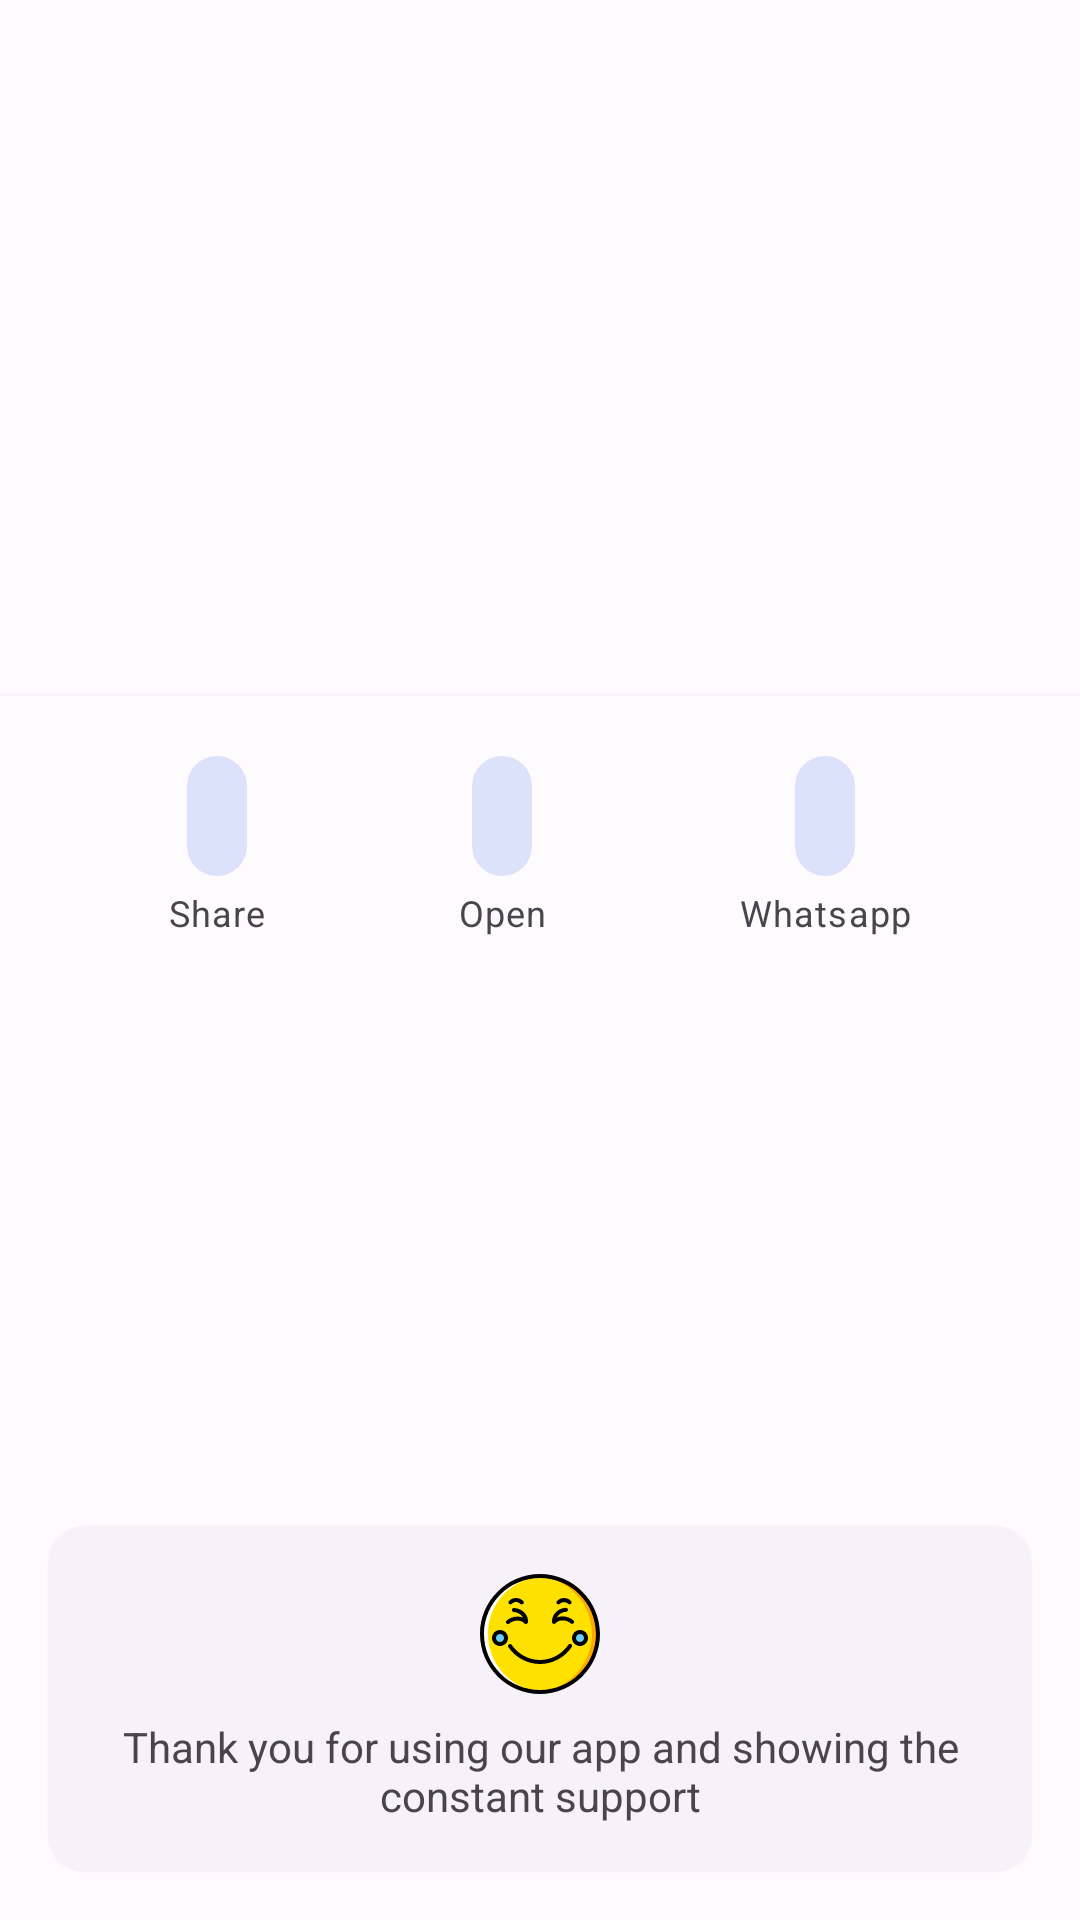

Icon bounding boxes for this 1080px x 1920px phone screenshot, format [x1, y1, x2, y2]:
happy: [480, 1574, 600, 1694]
